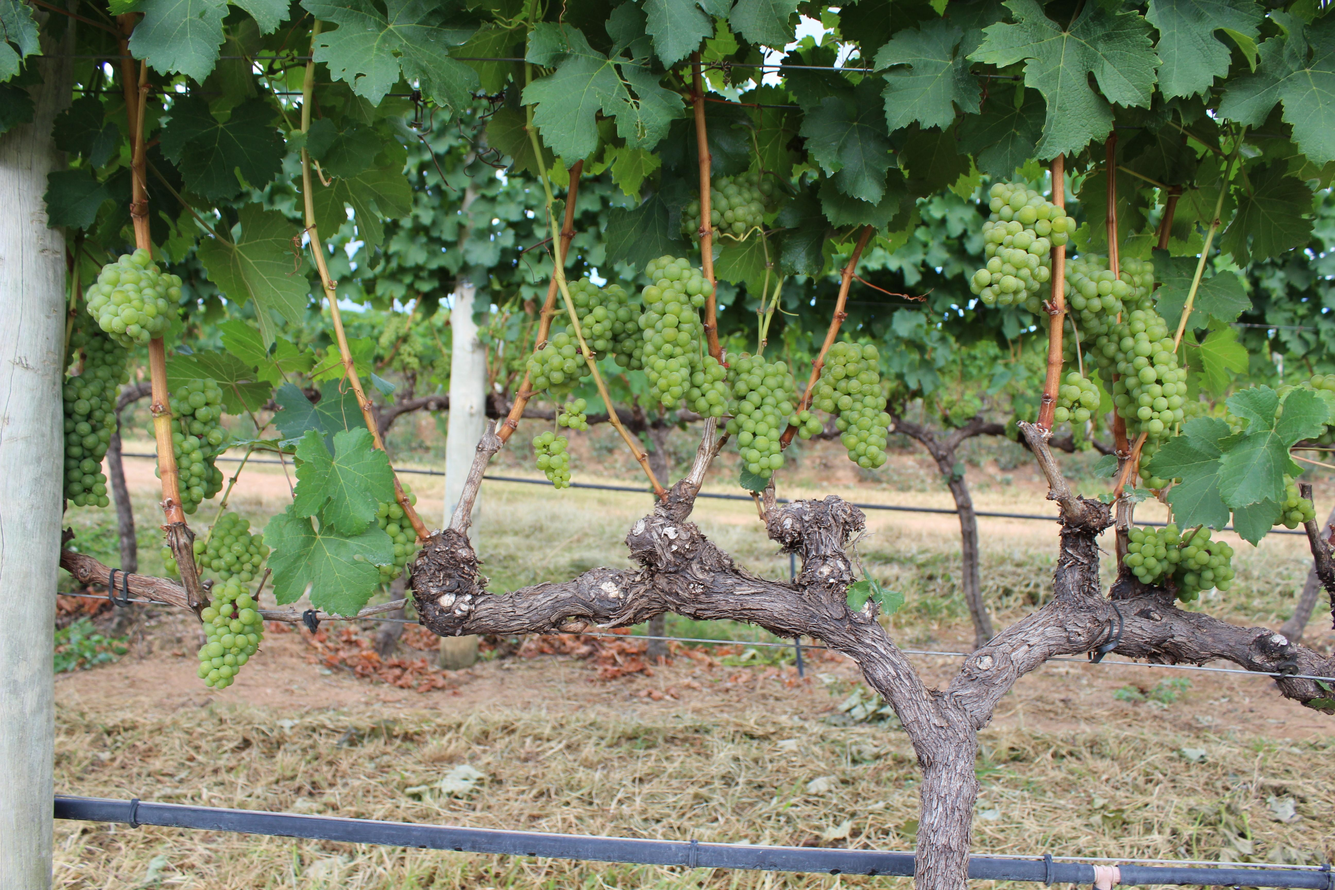leaf: (969, 0, 1159, 159), (303, 0, 477, 110), (1219, 10, 1335, 165), (198, 204, 310, 343), (264, 506, 393, 615), (1219, 386, 1328, 509), (160, 95, 284, 200), (800, 78, 892, 205), (875, 19, 980, 130), (1146, 0, 1263, 98), (294, 427, 393, 535), (1220, 162, 1313, 264), (1146, 418, 1230, 529), (312, 165, 412, 248), (958, 85, 1046, 177), (167, 350, 272, 414), (218, 319, 315, 386), (274, 380, 365, 451), (52, 96, 119, 167), (644, 0, 714, 67), (1186, 327, 1249, 397), (44, 168, 112, 228), (1187, 271, 1251, 330), (1153, 250, 1198, 330), (729, 0, 799, 49), (0, 0, 40, 81), (1233, 499, 1282, 545), (1206, 263, 1210, 272), (0, 99, 3, 104), (1332, 81, 1335, 85), (398, 146, 401, 150), (233, 322, 243, 323)
